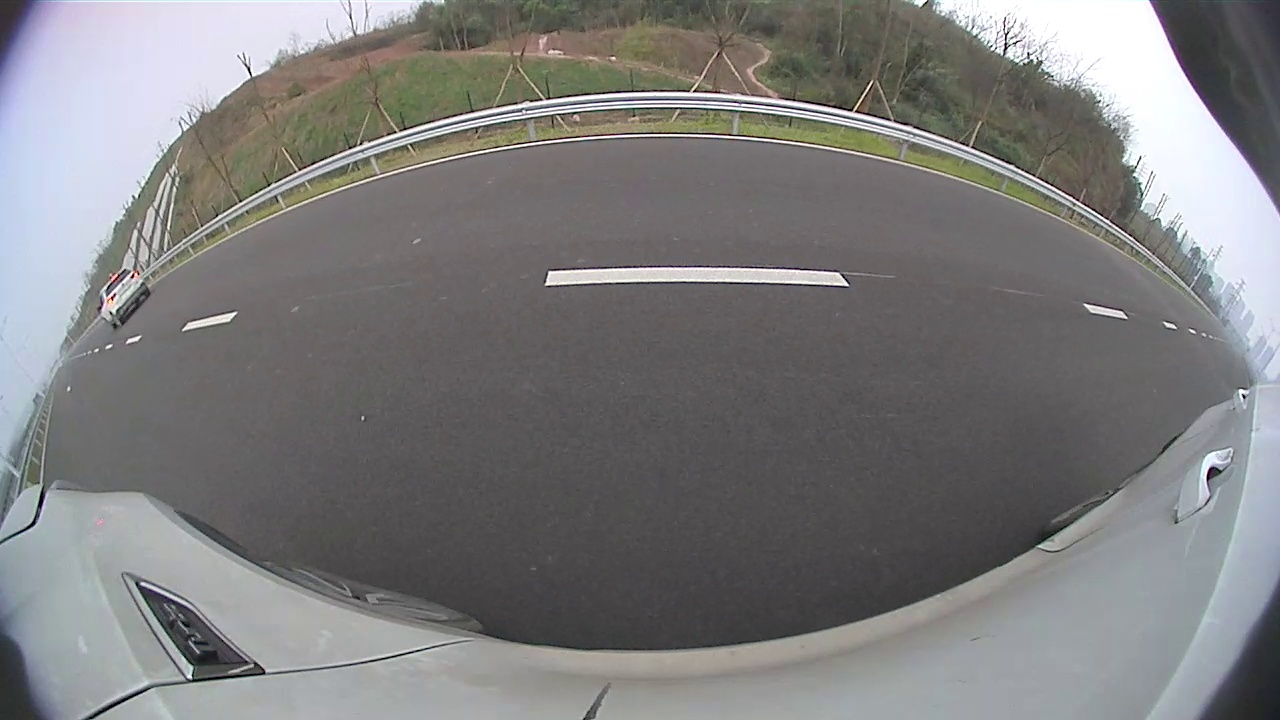car: (728, 147, 826, 206)
front: (729, 174, 742, 195)
rear: (756, 177, 772, 201)
